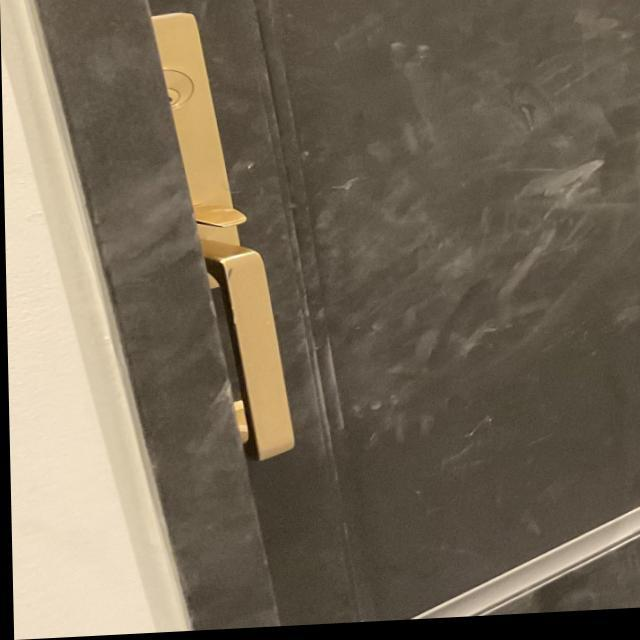door_handle: (185, 234, 305, 474)
